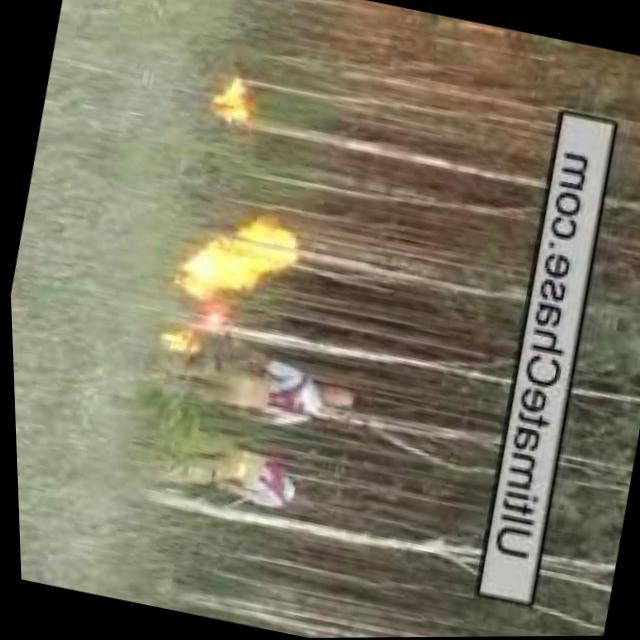Fire: (169, 200, 305, 321), (146, 298, 221, 368), (200, 74, 257, 128)
